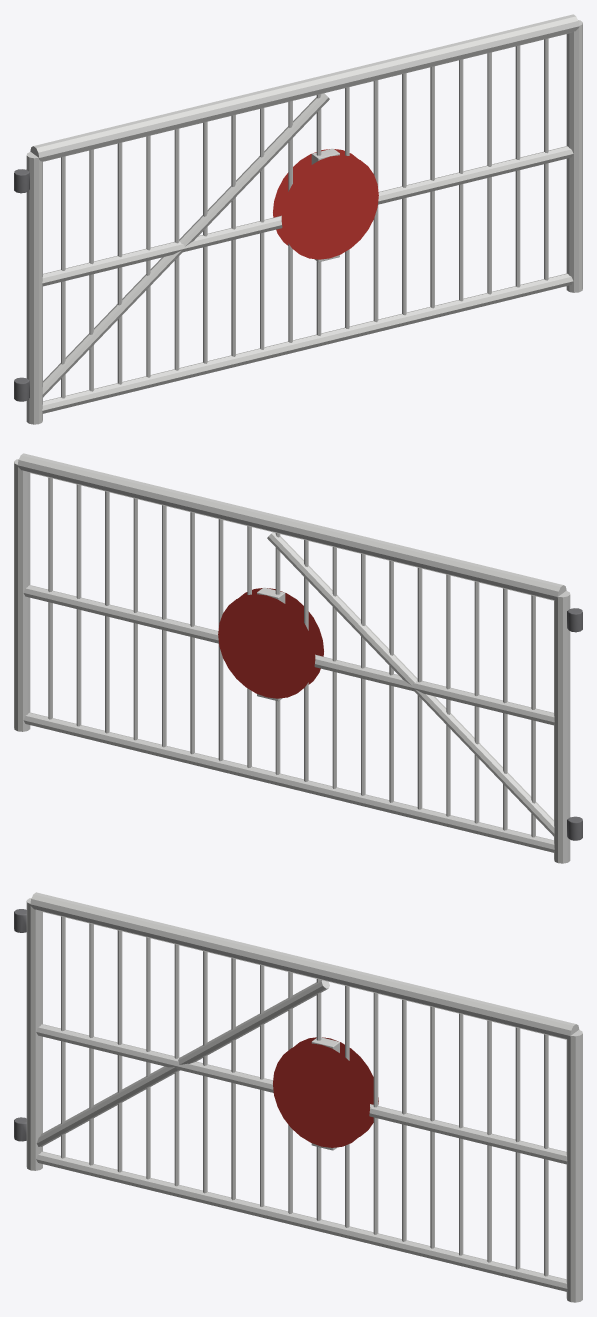
The model's file is rail.crossing.gate_25.glb.
3 renders of one model, top to bottom at view 1: azimuth 30°, elevation 25°; view 2: azimuth 150°, elevation 25°; view 3: azimuth 330°, elevation 25°, orthographic.
Parts seen in each view (by area): view 1: main__paint_eed, main__paint_c33, main__galv_777; view 2: main__paint_eed, main__paint_c33, main__galv_777; view 3: main__paint_eed, main__paint_c33, main__galv_777.
Boxes of the visible parts, x1,y1,x2,y2 form: main__paint_eed: (26,14,582,424); main__paint_c33: (273,149,378,259); main__galv_777: (14,169,29,401); main__paint_eed: (14,453,570,863); main__paint_c33: (218,588,323,698); main__galv_777: (567,608,582,840); main__paint_eed: (26,892,582,1302); main__paint_c33: (273,1037,378,1147); main__galv_777: (14,909,26,1141).
Size of the model in its own units: 2.56 by 1.18 by 0.07.
